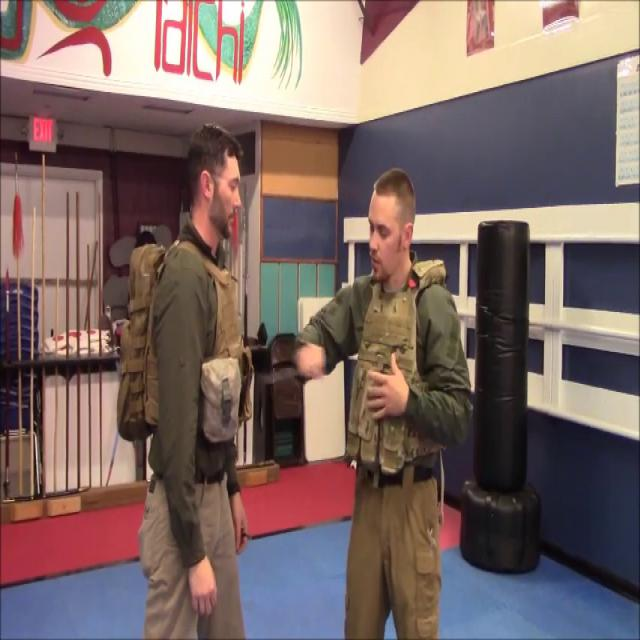knife: (258, 348, 316, 394)
